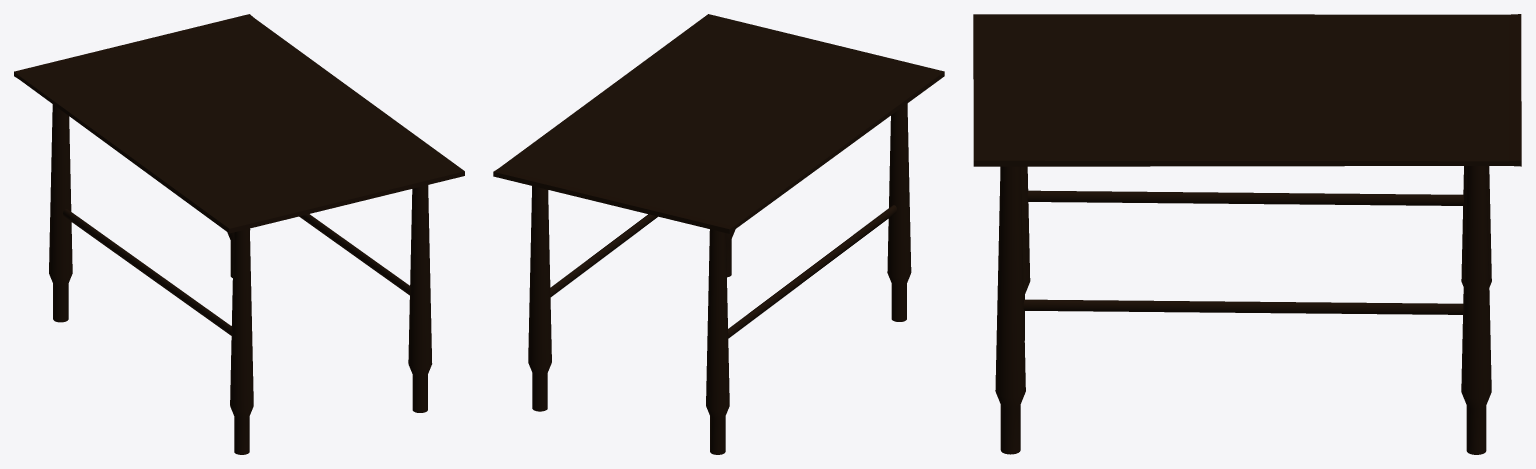
Rendered from TABLE_TEXTURE.obj.
3 renders of one model, left to right at view 1: azimuth 30°, elevation 25°; view 2: azimuth 150°, elevation 25°; view 3: azimuth 270°, elevation 25°, orthographic. The views are drawn at different scales.
Visible parts, largest first — view 1: pCube1, pCylinder2, pCylinder1, pCylinder4, pCylinder6, pCylinder5; view 2: pCube1, pCylinder4, pCylinder3, pCylinder1, pCylinder6, pCylinder5; view 3: pCube1, pCylinder3, pCylinder2, pCylinder5, pCylinder6, pCylinder1, pCylinder4.
Part boxes in pixels (x1=…): pCube1: x1=14, y1=14, x2=464, y2=233; pCylinder2: x1=408, y1=185, x2=432, y2=412; pCylinder1: x1=230, y1=228, x2=253, y2=454; pCylinder4: x1=49, y1=104, x2=72, y2=322; pCylinder6: x1=63, y1=209, x2=231, y2=335; pCylinder5: x1=299, y1=214, x2=409, y2=295; pCube1: x1=493, y1=14, x2=944, y2=233; pCylinder4: x1=706, y1=229, x2=729, y2=454; pCylinder3: x1=528, y1=186, x2=551, y2=411; pCylinder1: x1=887, y1=103, x2=911, y2=321; pCylinder6: x1=728, y1=205, x2=896, y2=338; pCylinder5: x1=550, y1=214, x2=657, y2=296; pCube1: x1=973, y1=14, x2=1521, y2=166; pCylinder3: x1=1461, y1=166, x2=1491, y2=454; pCylinder2: x1=995, y1=166, x2=1025, y2=454; pCylinder5: x1=1023, y1=299, x2=1463, y2=314; pCylinder6: x1=1027, y1=190, x2=1463, y2=205; pCylinder1: x1=1021, y1=166, x2=1030, y2=340; pCylinder4: x1=1461, y1=166, x2=1491, y2=287.
Size of the model in its own units: 6.68 by 6.54 by 10.54.
